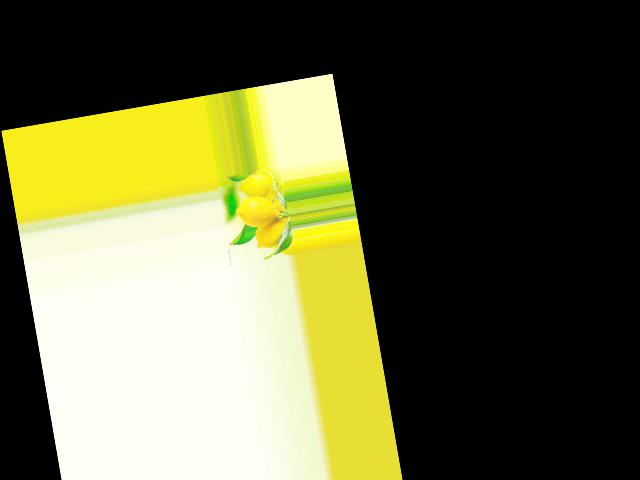lemon: (233, 170, 279, 200)
